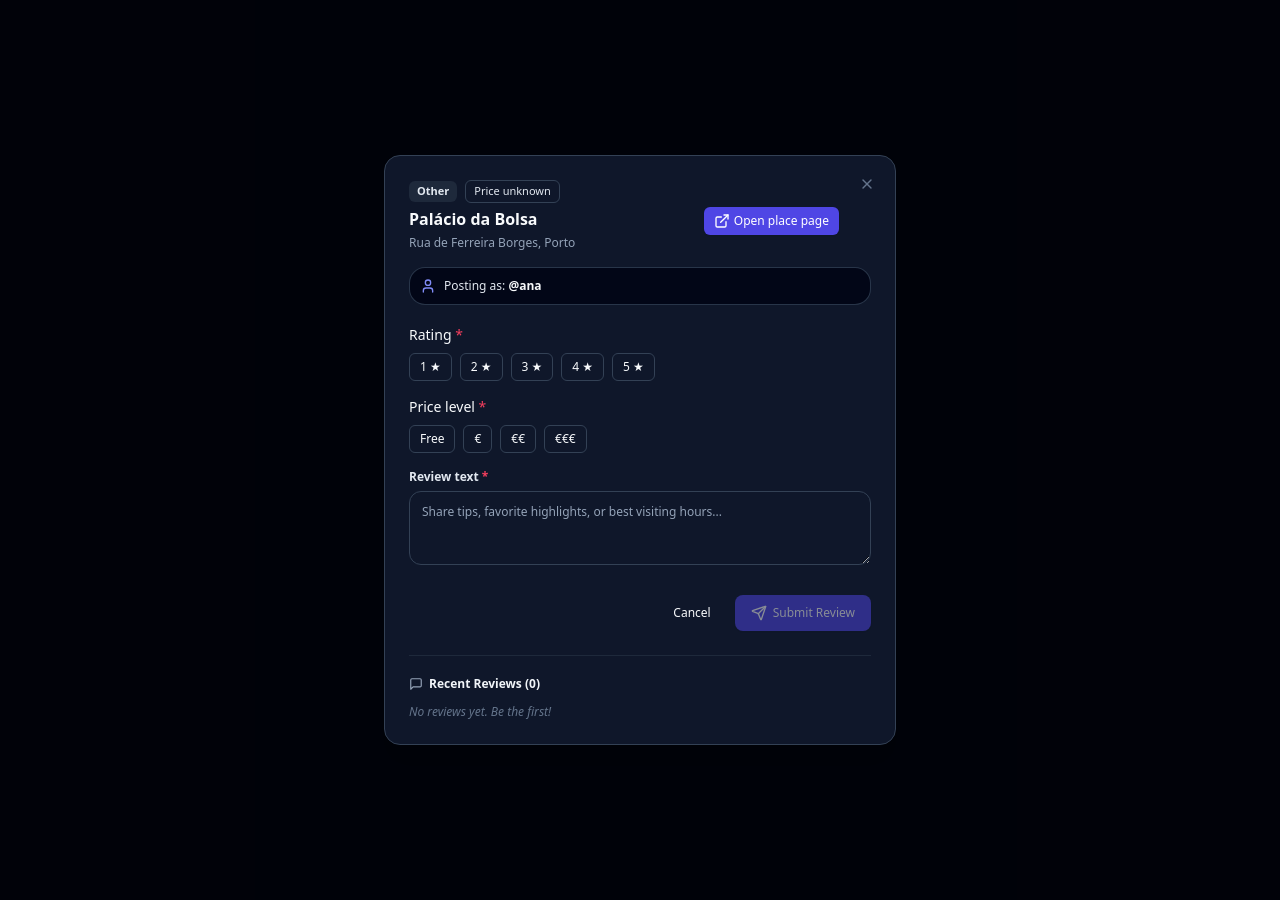
ReviewModal: the form that writes a review › keeps submit disabled until the rating, the price level and the text are all given
Click the button "5 ★".
click(634, 367)  # box [612,353,655,381]
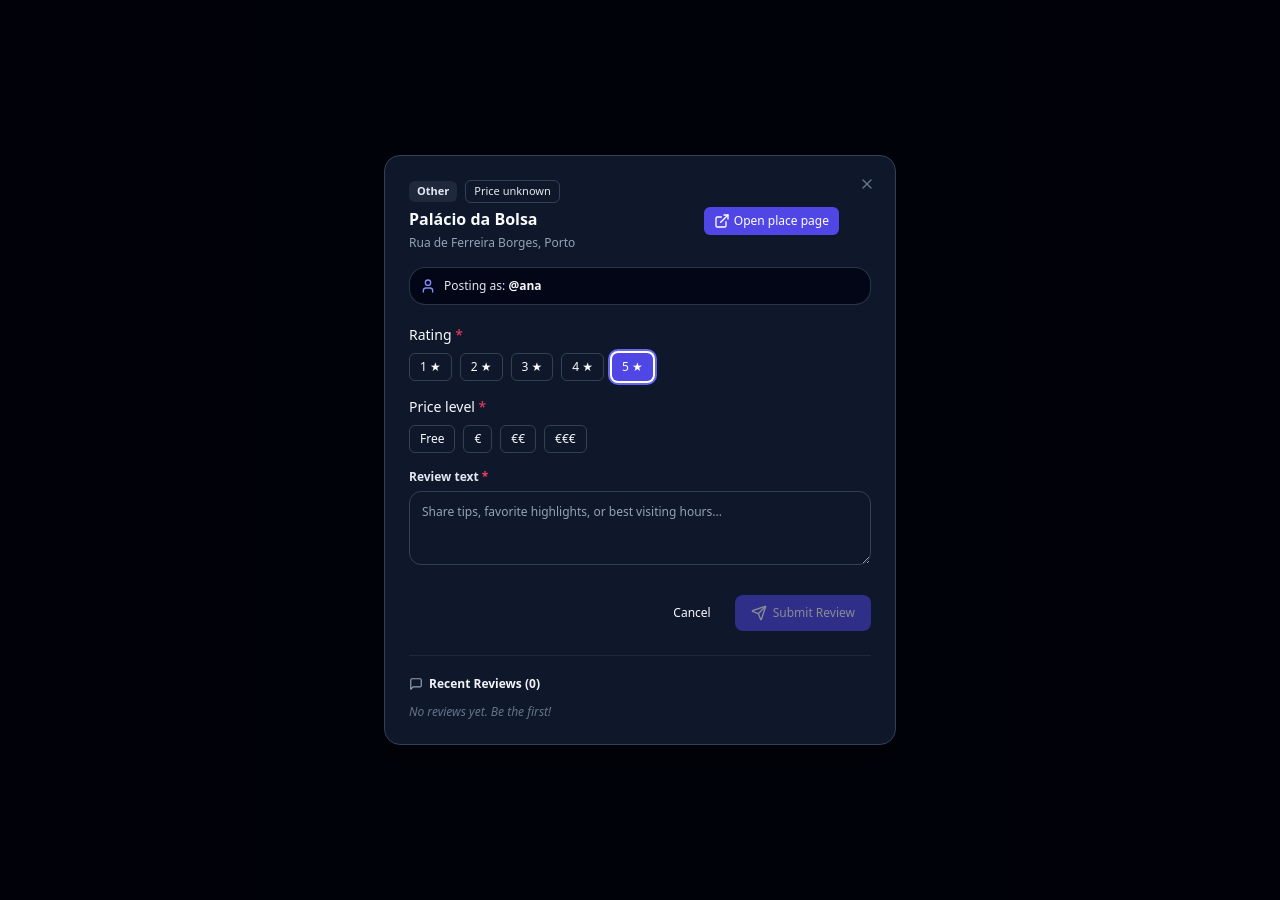
Type "Nice" into the text box.
click(640, 528); type("Nice")  # box [409,491,871,565]
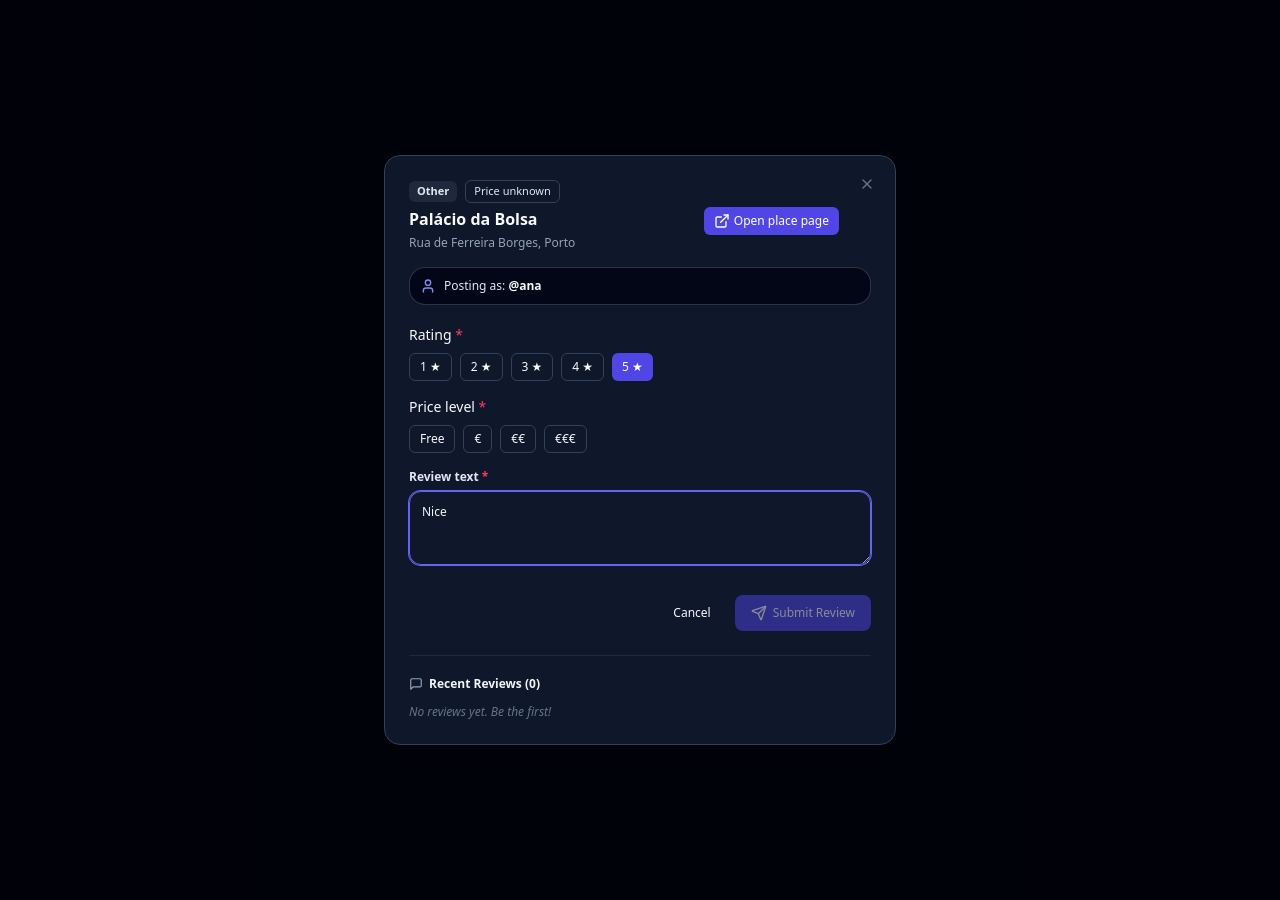
Expected: the button "Submit Review" is disabled, [735,595,871,631]
Click the button "Free".
click(432, 439)  # box [409,425,456,453]
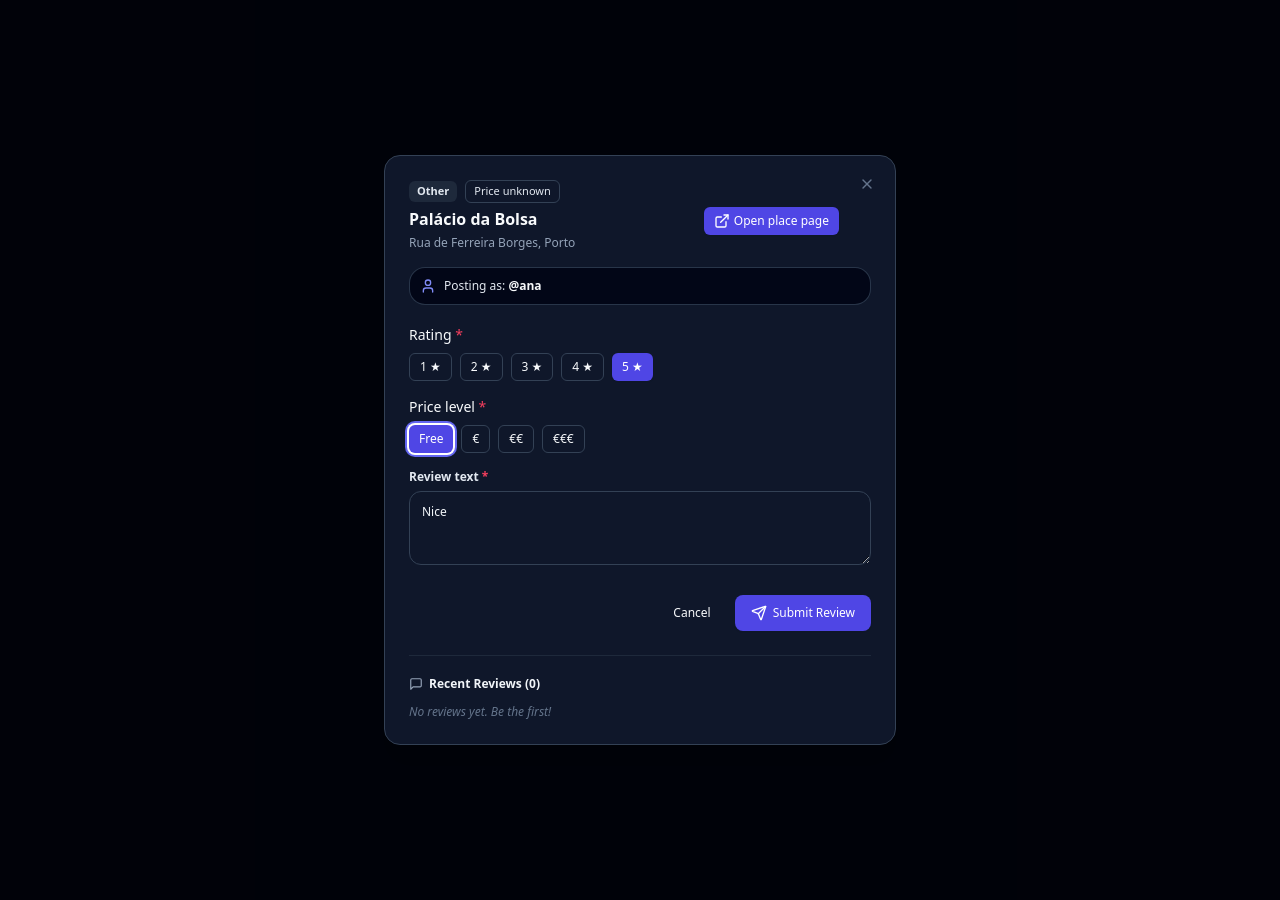
Expected: the button "Submit Review" is enabled, [735,595,871,631]
